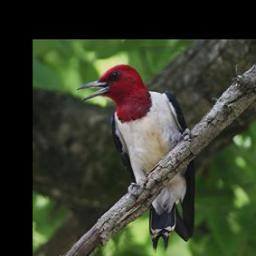Woodpecker: (73, 64, 201, 253)
